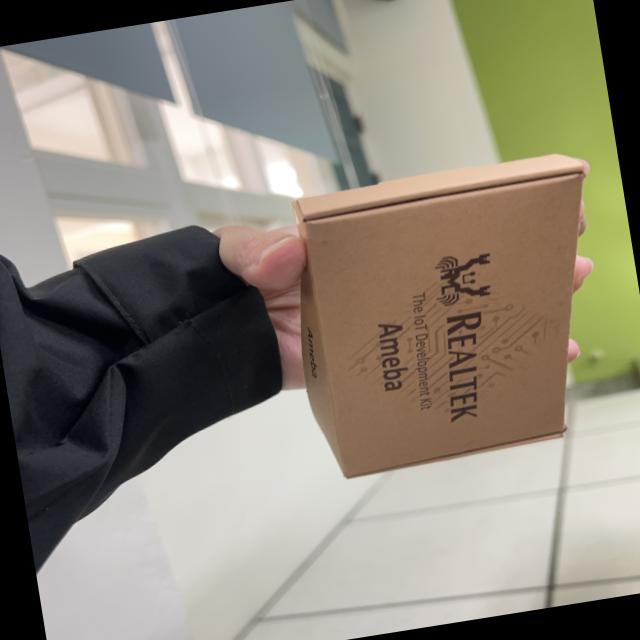box: (261, 128, 607, 498)
